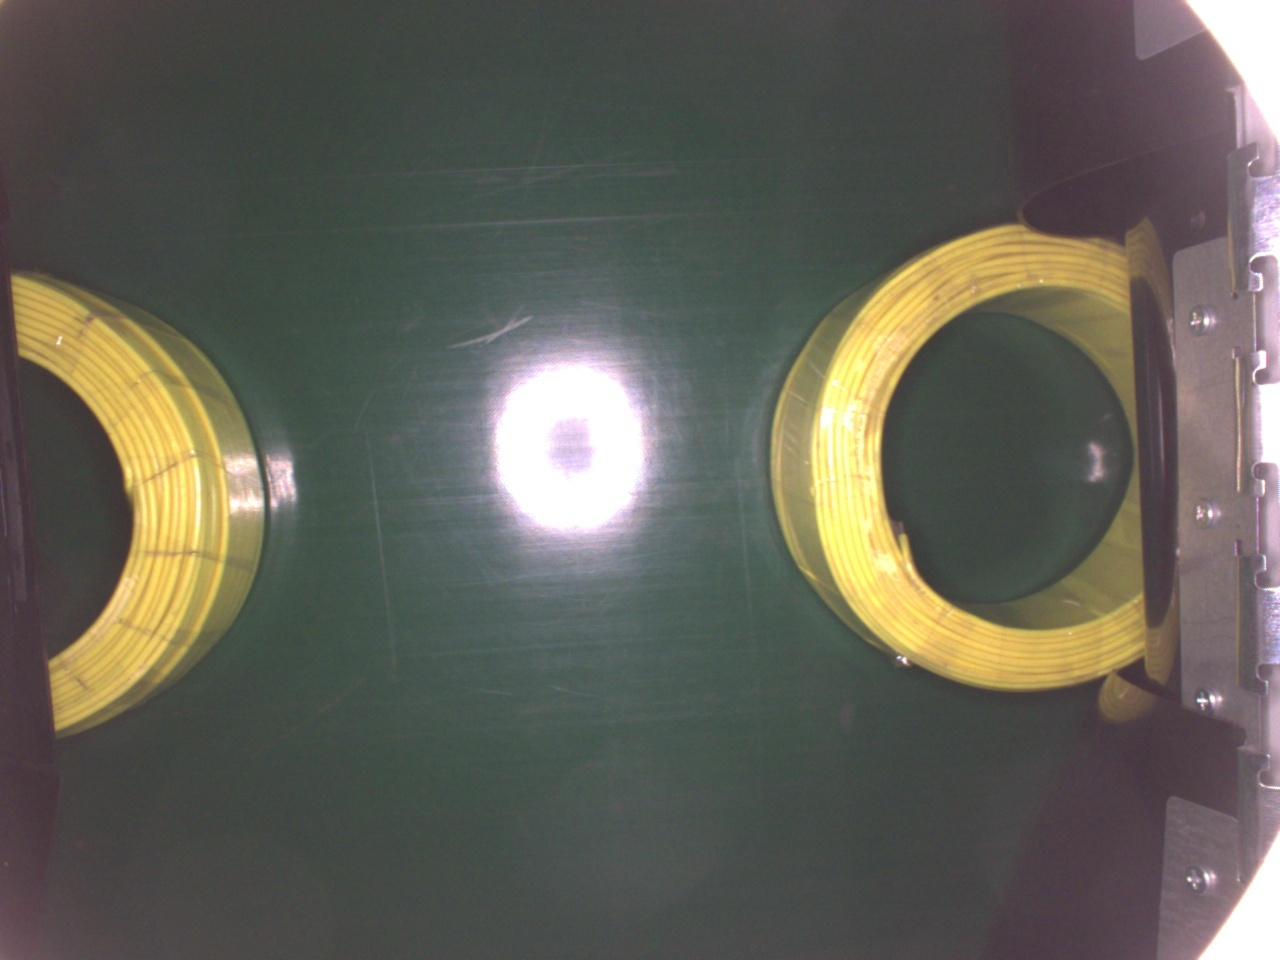yellow: (764, 213, 1147, 692), (12, 264, 271, 735)
